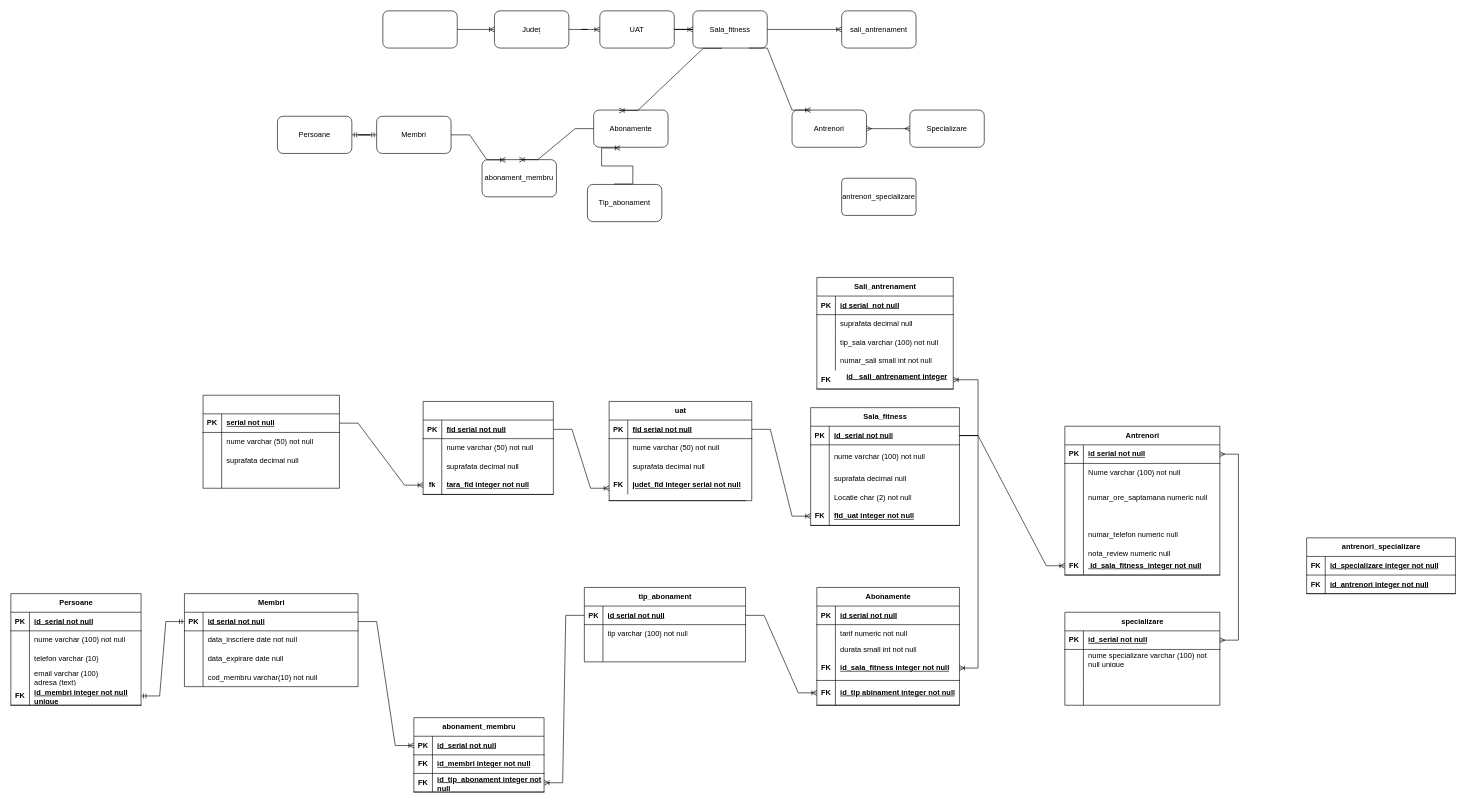
This 1466x803 diagram has some shape labels left out. The box of each missing label's shape, as (x1, y1, x2, y2) in pixels:
judet: (423, 401, 553, 494)
Tara: (202, 395, 339, 488)
Țară: (382, 10, 457, 48)
